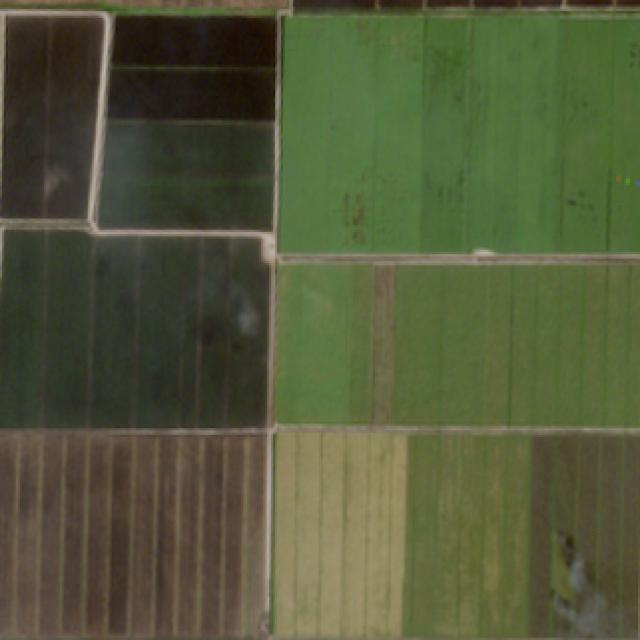wildfire: (550, 522, 621, 637)
